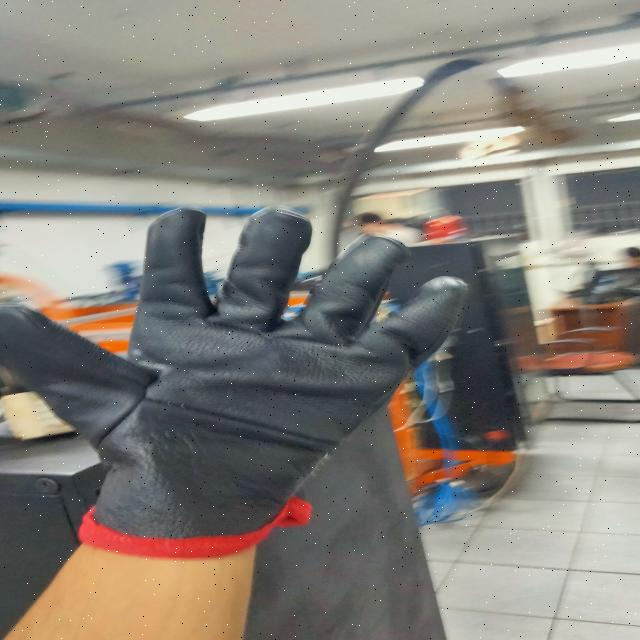Gloves: (0, 203, 472, 551)
